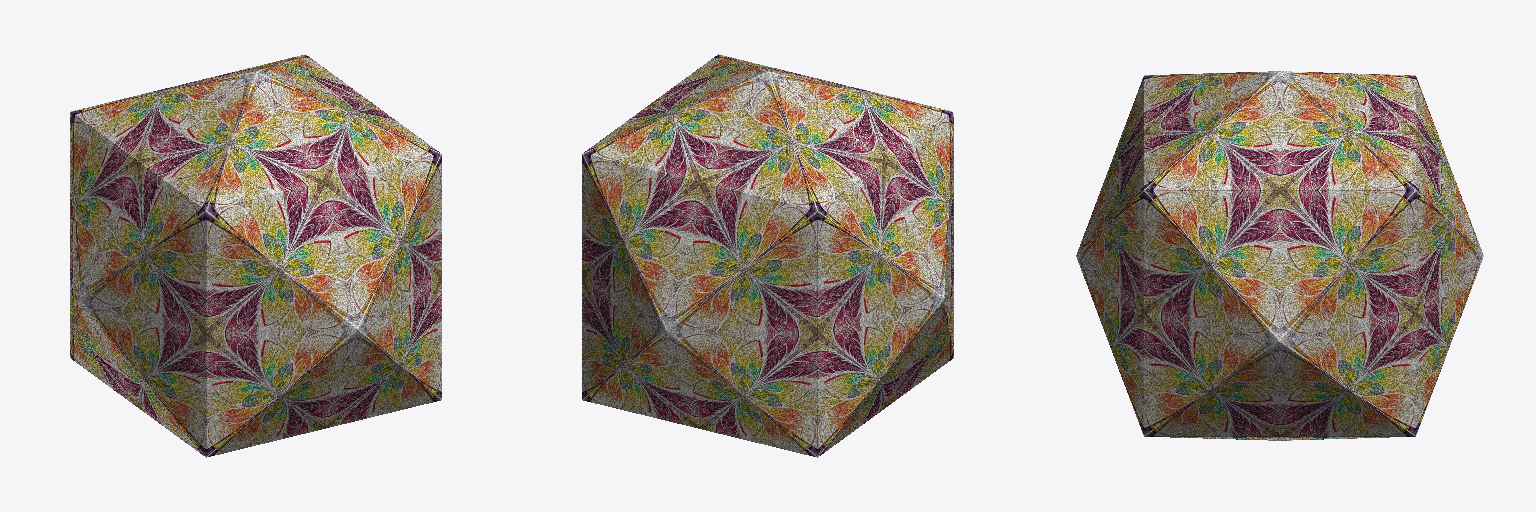
The picture shows the model from 3 angles: view 1: azimuth 30°, elevation 25°; view 2: azimuth 150°, elevation 25°; view 3: azimuth 270°, elevation 25°; orthographic projection.
Size of the model in its own units: 3.18 by 3.18 by 3.18.
Materials: 1 (1 with a texture image).